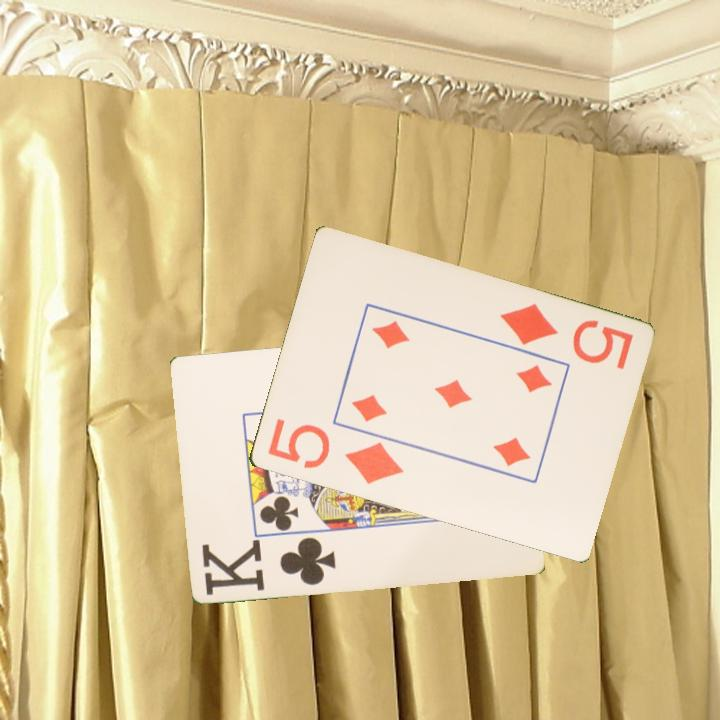5d: (263, 415, 406, 488), (496, 300, 636, 373)
Kc: (198, 533, 340, 598)
